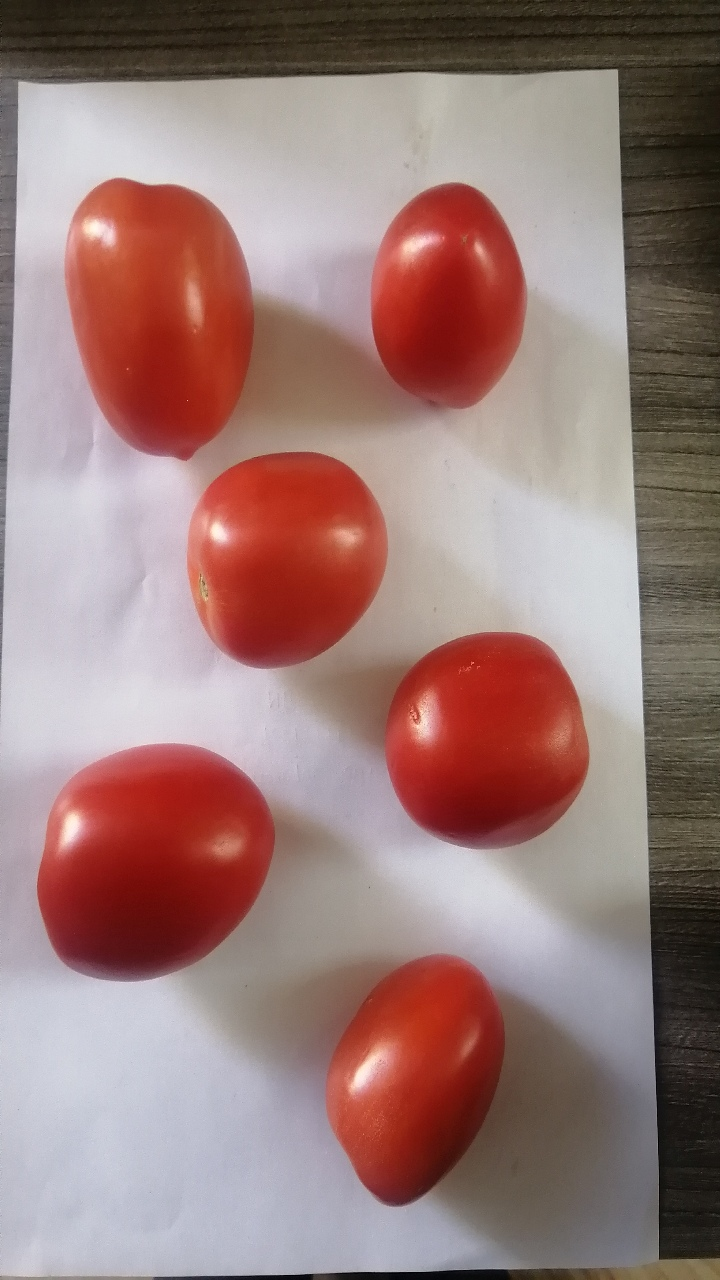tomateRojo: (46, 155, 277, 485), (17, 734, 289, 995), (294, 943, 537, 1217), (364, 619, 615, 865), (161, 442, 400, 679), (341, 169, 540, 434)
